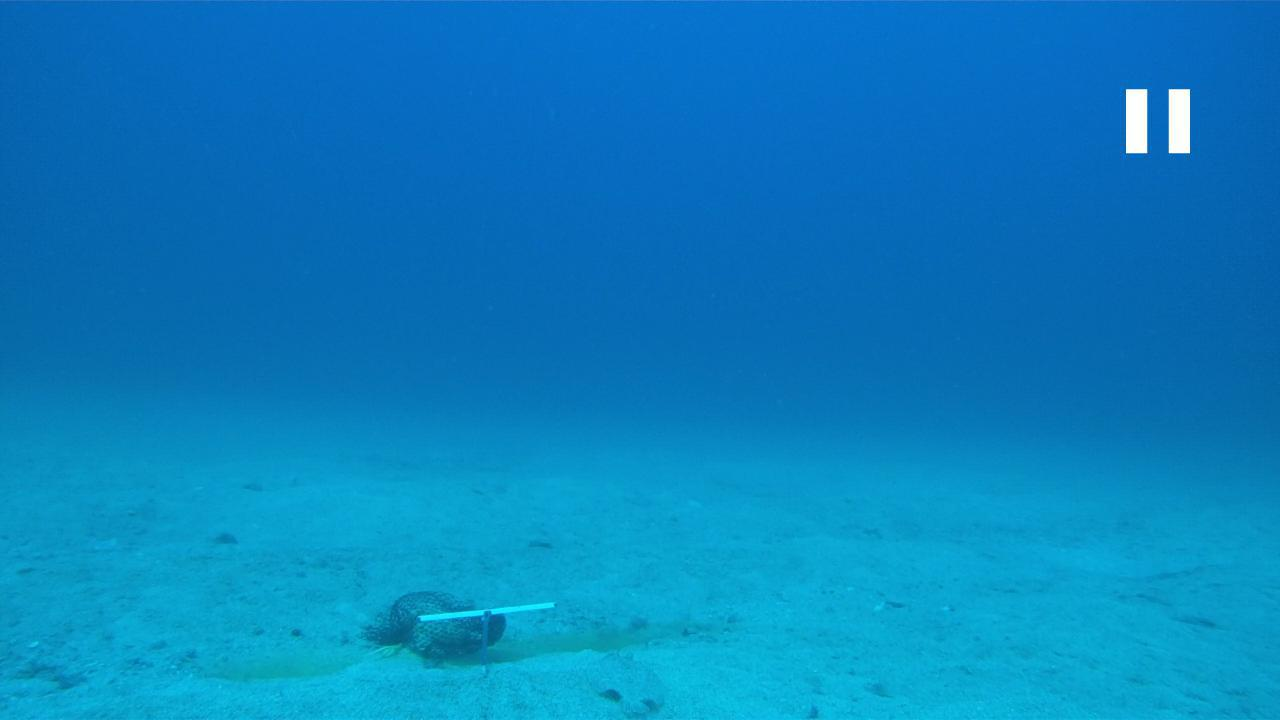bothus: (583, 644, 682, 719)
